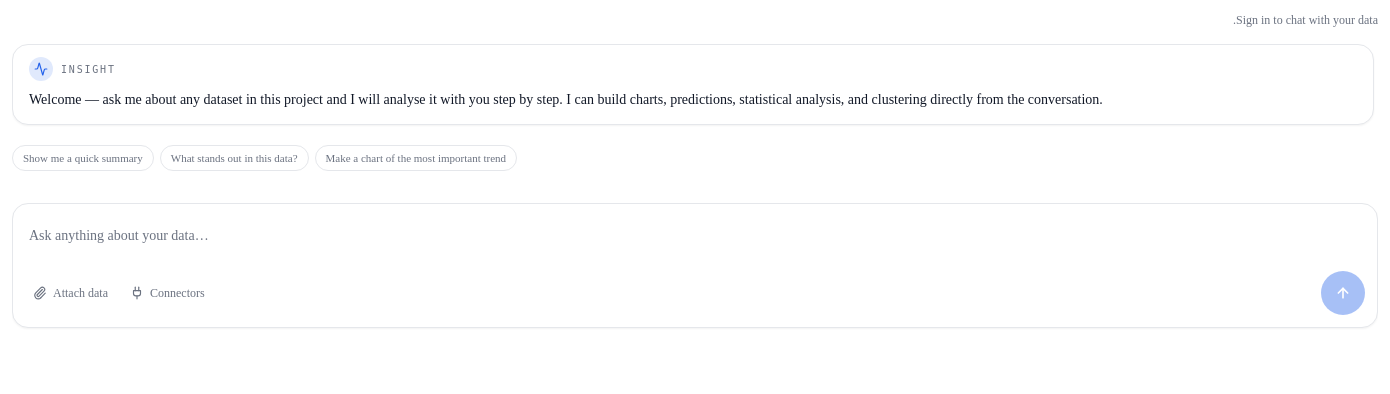
Scenario: ChatPanel › renders progressive tokens from a streamed response
Expected: the text "Welcome — ask me a" is shown, [29,92,1103,107]
Type "stream test" into the text box with test id "composer-textarea".
click(695, 236); type("stream test")  # box [25,216,1365,256]
Then press Enter
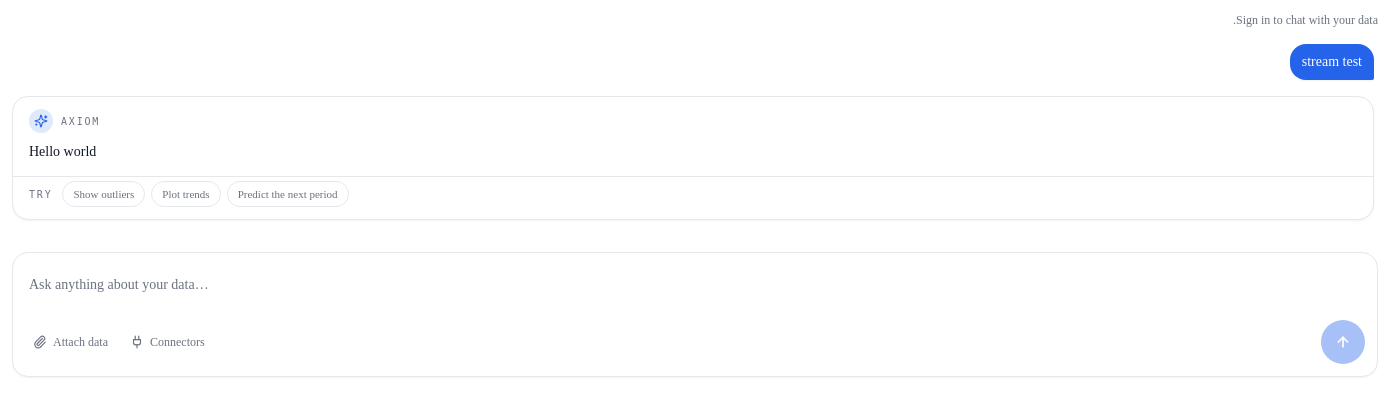
Result: the text "Hello world" is shown at [29,144,96,159]
